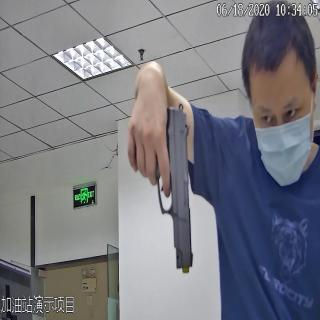gun: (126, 105, 192, 279)
